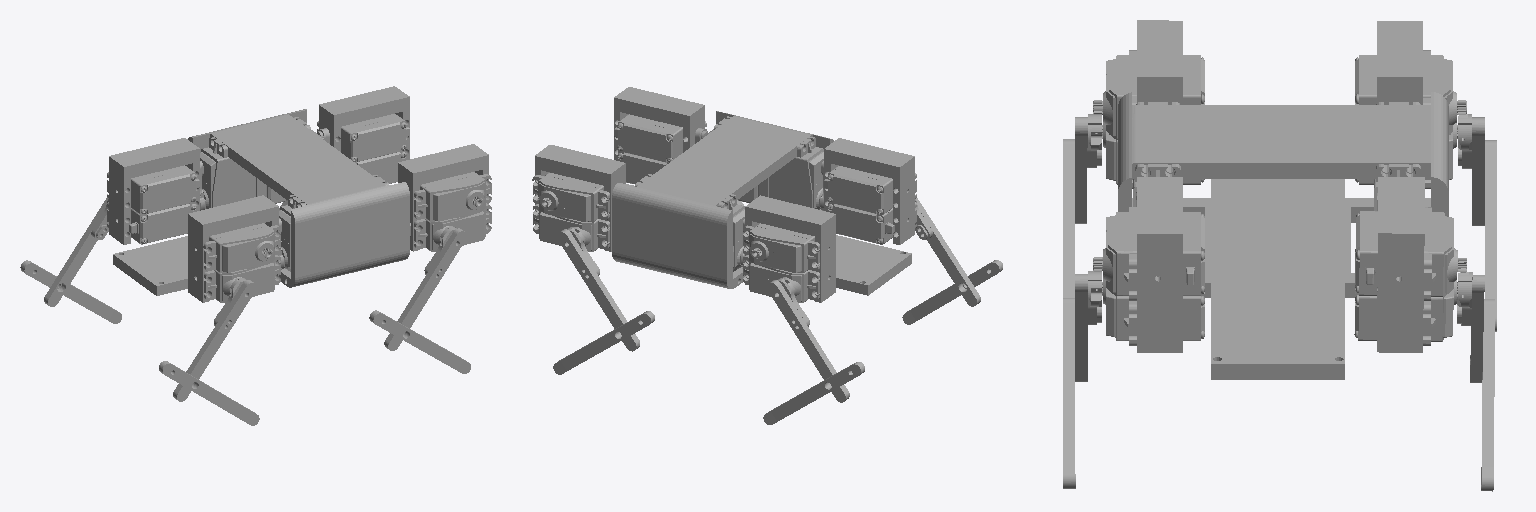
--- Facts derived from the render (not from the file) ---
The picture shows the robot from 3 angles, left to right: view 1: azimuth 30°, elevation 25°; view 2: azimuth 150°, elevation 25°; view 3: azimuth 270°, elevation 25°; orthographic projection.
Robot: robot_sim — 17 links, 16 joints (12 revolute, 4 fixed); root link base_link; default pose: all joints at 0.
Links seen in each view (by area): view 1: base_link, lh_hipp_1, rh_hipp_1, rf_hipp_1, lf_hipp_1, rf_up_1, rh_up_1, lh_up_1, rf_low_1, rh_low_1, lh_low_1; view 2: base_link, rh_hipp_1, lh_hipp_1, lf_hipp_1, rf_hipp_1, lh_up_1, lf_up_1, rh_up_1, lf_low_1, lh_low_1, rh_low_1; view 3: base_link, lf_hipp_1, rf_hipp_1, rh_hipp_1, lh_hipp_1, lh_up_1, rf_up_1, lf_up_1, rh_up_1, lf_low_1, rf_low_1, lh_low_1 (+1 smaller).
Boxes of the visible links, x1,y1,x2,y2 form: base_link: [113, 109, 409, 295]; lh_hipp_1: [107, 138, 205, 244]; rh_hipp_1: [188, 195, 284, 302]; rf_hipp_1: [398, 144, 491, 251]; lf_hipp_1: [317, 86, 409, 183]; rf_up_1: [384, 226, 466, 350]; rh_up_1: [173, 277, 256, 401]; lh_up_1: [44, 198, 108, 306]; rf_low_1: [369, 310, 463, 370]; rh_low_1: [159, 361, 251, 421]; lh_low_1: [20, 260, 114, 320]; base_link: [612, 111, 911, 295]; rh_hipp_1: [819, 138, 916, 244]; lh_hipp_1: [740, 195, 835, 302]; lf_hipp_1: [532, 145, 625, 251]; rf_hipp_1: [614, 87, 707, 184]; lh_up_1: [767, 278, 849, 402]; lf_up_1: [557, 227, 639, 351]; rh_up_1: [915, 198, 980, 306]; lf_low_1: [561, 311, 654, 370]; lh_low_1: [771, 362, 864, 421]; rh_low_1: [910, 260, 1002, 320]; base_link: [1118, 92, 1448, 379]; lf_hipp_1: [1354, 177, 1466, 352]; rf_hipp_1: [1093, 177, 1204, 352]; rh_hipp_1: [1093, 20, 1204, 188]; lh_hipp_1: [1355, 21, 1466, 188]; lh_up_1: [1458, 114, 1484, 225]; rf_up_1: [1075, 271, 1101, 381]; lf_up_1: [1457, 272, 1484, 382]; rh_up_1: [1075, 114, 1101, 223]; lf_low_1: [1481, 299, 1494, 471]; rf_low_1: [1063, 298, 1074, 463]; lh_low_1: [1485, 140, 1496, 306].
Size in the robot's own frame: 0.271 by 0.1782 by 0.1324 metres.
17 mesh visuals loaded from 17 distinct referenced files (17 binary STL).

URDF robot description (robot_sim):
<?xml version="1.0" ?>
<!-- =================================================================================== -->
<!-- |    This document was autogenerated by xacro from src/robot_sim_description/urdf/robot_sim.xacro | -->
<!-- |    EDITING THIS FILE BY HAND IS NOT RECOMMENDED                                 | -->
<!-- =================================================================================== -->
<robot name="robot_sim">
  <material name="silver">
    <color rgba="0.700 0.700 0.700 1.000"/>
  </material>
  <transmission name="lf_hip_joint_tran">
    <type>transmission_interface/SimpleTransmission</type>
    <joint name="lf_hip_joint">
      <hardwareInterface>hardware_interface/EffortJointInterface</hardwareInterface>
    </joint>
    <actuator name="lf_hip_joint_actr">
      <hardwareInterface>hardware_interface/EffortJointInterface</hardwareInterface>
      <mechanicalReduction>1</mechanicalReduction>
    </actuator>
  </transmission>
  <transmission name="rf_hip_joint_tran">
    <type>transmission_interface/SimpleTransmission</type>
    <joint name="rf_hip_joint">
      <hardwareInterface>hardware_interface/EffortJointInterface</hardwareInterface>
    </joint>
    <actuator name="rf_hip_joint_actr">
      <hardwareInterface>hardware_interface/EffortJointInterface</hardwareInterface>
      <mechanicalReduction>1</mechanicalReduction>
    </actuator>
  </transmission>
  <transmission name="lh_hip_joint_tran">
    <type>transmission_interface/SimpleTransmission</type>
    <joint name="lh_hip_joint">
      <hardwareInterface>hardware_interface/EffortJointInterface</hardwareInterface>
    </joint>
    <actuator name="lh_hip_joint_actr">
      <hardwareInterface>hardware_interface/EffortJointInterface</hardwareInterface>
      <mechanicalReduction>1</mechanicalReduction>
    </actuator>
  </transmission>
  <transmission name="rh_hip_joint_tran">
    <type>transmission_interface/SimpleTransmission</type>
    <joint name="rh_hip_joint">
      <hardwareInterface>hardware_interface/EffortJointInterface</hardwareInterface>
    </joint>
    <actuator name="rh_hip_joint_actr">
      <hardwareInterface>hardware_interface/EffortJointInterface</hardwareInterface>
      <mechanicalReduction>1</mechanicalReduction>
    </actuator>
  </transmission>
  <transmission name="lf_upper_leg_joint_tran">
    <type>transmission_interface/SimpleTransmission</type>
    <joint name="lf_upper_leg_joint">
      <hardwareInterface>hardware_interface/EffortJointInterface</hardwareInterface>
    </joint>
    <actuator name="lf_upper_leg_joint_actr">
      <hardwareInterface>hardware_interface/EffortJointInterface</hardwareInterface>
      <mechanicalReduction>1</mechanicalReduction>
    </actuator>
  </transmission>
  <transmission name="rf_upper_leg_joint_tran">
    <type>transmission_interface/SimpleTransmission</type>
    <joint name="rf_upper_leg_joint">
      <hardwareInterface>hardware_interface/EffortJointInterface</hardwareInterface>
    </joint>
    <actuator name="rf_upper_leg_joint_actr">
      <hardwareInterface>hardware_interface/EffortJointInterface</hardwareInterface>
      <mechanicalReduction>1</mechanicalReduction>
    </actuator>
  </transmission>
  <transmission name="lh_upper_leg_joint_tran">
    <type>transmission_interface/SimpleTransmission</type>
    <joint name="lh_upper_leg_joint">
      <hardwareInterface>hardware_interface/EffortJointInterface</hardwareInterface>
    </joint>
    <actuator name="lh_upper_leg_joint_actr">
      <hardwareInterface>hardware_interface/EffortJointInterface</hardwareInterface>
      <mechanicalReduction>1</mechanicalReduction>
    </actuator>
  </transmission>
  <transmission name="rh_upper_leg_joint_tran">
    <type>transmission_interface/SimpleTransmission</type>
    <joint name="rh_upper_leg_joint">
      <hardwareInterface>hardware_interface/EffortJointInterface</hardwareInterface>
    </joint>
    <actuator name="rh_upper_leg_joint_actr">
      <hardwareInterface>hardware_interface/EffortJointInterface</hardwareInterface>
      <mechanicalReduction>1</mechanicalReduction>
    </actuator>
  </transmission>
  <transmission name="lf_lower_leg_joint_tran">
    <type>transmission_interface/SimpleTransmission</type>
    <joint name="lf_lower_leg_joint">
      <hardwareInterface>hardware_interface/EffortJointInterface</hardwareInterface>
    </joint>
    <actuator name="lf_lower_leg_joint_actr">
      <hardwareInterface>hardware_interface/EffortJointInterface</hardwareInterface>
      <mechanicalReduction>1</mechanicalReduction>
    </actuator>
  </transmission>
  <transmission name="rf_lower_leg_joint_tran">
    <type>transmission_interface/SimpleTransmission</type>
    <joint name="rf_lower_leg_joint">
      <hardwareInterface>hardware_interface/EffortJointInterface</hardwareInterface>
    </joint>
    <actuator name="rf_lower_leg_joint_actr">
      <hardwareInterface>hardware_interface/EffortJointInterface</hardwareInterface>
      <mechanicalReduction>1</mechanicalReduction>
    </actuator>
  </transmission>
  <transmission name="lh_lower_leg_joint_tran">
    <type>transmission_interface/SimpleTransmission</type>
    <joint name="lh_lower_leg_joint">
      <hardwareInterface>hardware_interface/EffortJointInterface</hardwareInterface>
    </joint>
    <actuator name="lh_lower_leg_joint_actr">
      <hardwareInterface>hardware_interface/EffortJointInterface</hardwareInterface>
      <mechanicalReduction>1</mechanicalReduction>
    </actuator>
  </transmission>
  <transmission name="rh_lower_leg_joint_tran">
    <type>transmission_interface/SimpleTransmission</type>
    <joint name="rh_lower_leg_joint">
      <hardwareInterface>hardware_interface/EffortJointInterface</hardwareInterface>
    </joint>
    <actuator name="rh_lower_leg_joint_actr">
      <hardwareInterface>hardware_interface/EffortJointInterface</hardwareInterface>
      <mechanicalReduction>1</mechanicalReduction>
    </actuator>
  </transmission>
  <gazebo>
    <plugin filename="libgazebo_ros_control.so" name="control"/>
  </gazebo>
  <gazebo reference="base_link">
    <material>Gazebo/Silver</material>
    <mu1>0.2</mu1>
    <mu2>0.2</mu2>
    <selfCollide>false</selfCollide>
    <gravity>true</gravity>
  </gazebo>
  <gazebo reference="lf_hipp_1">
    <material>Gazebo/Silver</material>
    <mu1>0.2</mu1>
    <mu2>0.2</mu2>
    <selfCollide>false</selfCollide>
  </gazebo>
  <gazebo reference="rf_hipp_1">
    <material>Gazebo/Silver</material>
    <mu1>0.2</mu1>
    <mu2>0.2</mu2>
    <selfCollide>false</selfCollide>
  </gazebo>
  <gazebo reference="lh_hipp_1">
    <material>Gazebo/Silver</material>
    <mu1>0.2</mu1>
    <mu2>0.2</mu2>
    <selfCollide>false</selfCollide>
  </gazebo>
  <gazebo reference="rh_hipp_1">
    <material>Gazebo/Silver</material>
    <mu1>0.2</mu1>
    <mu2>0.2</mu2>
    <selfCollide>false</selfCollide>
  </gazebo>
  <gazebo reference="lf_up_1">
    <material>Gazebo/Silver</material>
    <mu1>0.2</mu1>
    <mu2>0.2</mu2>
    <selfCollide>false</selfCollide>
  </gazebo>
  <gazebo reference="rf_up_1">
    <material>Gazebo/Silver</material>
    <mu1>0.2</mu1>
    <mu2>0.2</mu2>
    <selfCollide>false</selfCollide>
  </gazebo>
  <gazebo reference="lh_up_1">
    <material>Gazebo/Silver</material>
    <mu1>0.2</mu1>
    <mu2>0.2</mu2>
    <selfCollide>false</selfCollide>
  </gazebo>
  <gazebo reference="rh_up_1">
    <material>Gazebo/Silver</material>
    <mu1>0.2</mu1>
    <mu2>0.2</mu2>
    <selfCollide>false</selfCollide>
  </gazebo>
  <gazebo reference="lf_foot_1">
    <material>Gazebo/Silver</material>
    <mu1>1.5</mu1>
    <mu2>1.5</mu2>
    <selfCollide>false</selfCollide>
    <kp>1000000.0</kp>
    <kd>1.0</kd>
    <minDepth>0.001</minDepth>
    <maxVel>0.1</maxVel>
  </gazebo>
  <gazebo reference="rf_foot_1">
    <material>Gazebo/Silver</material>
    <mu1>1.5</mu1>
    <mu2>1.5</mu2>
    <selfCollide>false</selfCollide>
    <kp>1000000.0</kp>
    <kd>1.0</kd>
    <minDepth>0.001</minDepth>
    <maxVel>0.1</maxVel>
  </gazebo>
  <gazebo reference="lh_foot_1">
    <material>Gazebo/Silver</material>
    <mu1>1.5</mu1>
    <mu2>1.5</mu2>
    <selfCollide>false</selfCollide>
    <kp>1000000.0</kp>
    <kd>1.0</kd>
    <minDepth>0.001</minDepth>
    <maxVel>0.1</maxVel>
  </gazebo>
  <gazebo reference="rh_foot_1">
    <material>Gazebo/Silver</material>
    <mu1>1.5</mu1>
    <mu2>1.5</mu2>
    <selfCollide>false</selfCollide>
    <kp>1000000.0</kp>
    <kd>1.0</kd>
    <minDepth>0.001</minDepth>
    <maxVel>0.1</maxVel>
  </gazebo>
  <gazebo reference="lf_low_1">
    <material>Gazebo/Silver</material>
    <mu1>0.2</mu1>
    <mu2>0.2</mu2>
    <selfCollide>false</selfCollide>
  </gazebo>
  <gazebo reference="rf_low_1">
    <material>Gazebo/Silver</material>
    <mu1>0.2</mu1>
    <mu2>0.2</mu2>
    <selfCollide>false</selfCollide>
  </gazebo>
  <gazebo reference="lh_low_1">
    <material>Gazebo/Silver</material>
    <mu1>0.2</mu1>
    <mu2>0.2</mu2>
    <selfCollide>false</selfCollide>
  </gazebo>
  <gazebo reference="rh_low_1">
    <material>Gazebo/Silver</material>
    <mu1>0.2</mu1>
    <mu2>0.2</mu2>
    <selfCollide>false</selfCollide>
  </gazebo>
  <gazebo reference="base_link">
    <gravity>true</gravity>
    <sensor name="imu_sensor" type="imu">
      <always_on>true</always_on>
      <update_rate>100</update_rate>
      <visualize>true</visualize>
      <topic>__default_topic__</topic>
      <plugin filename="libgazebo_ros_imu_sensor.so" name="imu_plugin">
        <topicName>imu/data</topicName>
        <bodyName>base_link</bodyName>
        <updateRateHZ>100.0</updateRateHZ>
        <gaussianNoise>0.0</gaussianNoise>
        <xyzOffset>0 0 0</xyzOffset>
        <rpyOffset>0 0 0</rpyOffset>
        <frameName>base_link</frameName>
        <initialOrientationAsReference>false</initialOrientationAsReference>
      </plugin>
      <pose>0 0 0 0 0 0</pose>
    </sensor>
  </gazebo>
  <link name="base_link">
    <inertial>
      <origin rpy="0 0 0" xyz="-0.0005252204596031618 -0.00019184175566821615 0.02372203813710473"/>
      <mass value="1.0"/>
      <inertia ixx="0.006081" ixy="1e-06" ixz="1.4e-05" iyy="0.005366" iyz="-2.7e-05" izz="0.00968"/>
    </inertial>
    <visual>
      <origin rpy="0 0 0" xyz="0 0 0"/>
      <geometry>
        <mesh filename="package://robot_sim_description/meshes/base_link.stl" scale="0.001 0.001 0.001"/>
      </geometry>
      <material name="silver"/>
    </visual>
    <collision>
      <origin rpy="0 0 0" xyz="0 0 0"/>
      <geometry>
        <mesh filename="package://robot_sim_description/meshes/base_link.stl" scale="0.001 0.001 0.001"/>
      </geometry>
    </collision>
  </link>
  <link name="lf_hipp_1">
    <inertial>
      <origin rpy="0 0 0" xyz="0.03015331538259277 0.002186531069731129 0.011451897963831191"/>
      <mass value="0.25"/>
      <inertia ixx="0.000207" ixy="-1e-06" ixz="-1e-06" iyy="0.000267" iyz="2e-06" izz="0.000208"/>
    </inertial>
    <visual>
      <origin rpy="0 0 0" xyz="-0.044687 -0.047373 -0.017674"/>
      <geometry>
        <mesh filename="package://robot_sim_description/meshes/lf_hipp_1.stl" scale="0.001 0.001 0.001"/>
      </geometry>
      <material name="silver"/>
    </visual>
    <collision>
      <origin rpy="0 0 0" xyz="-0.044687 -0.047373 -0.017674"/>
      <geometry>
        <mesh filename="package://robot_sim_description/meshes/lf_hipp_1.stl" scale="0.001 0.001 0.001"/>
      </geometry>
    </collision>
  </link>
  <link name="rf_hipp_1">
    <inertial>
      <origin rpy="0 0 0" xyz="0.03015037337157648 -0.0007413119719827249 0.011482275702380054"/>
      <mass value="0.25"/>
      <inertia ixx="0.000207" ixy="0.0" ixz="-1e-06" iyy="0.000267" iyz="-3e-06" izz="0.000208"/>
    </inertial>
    <visual>
      <origin rpy="0 0 0" xyz="-0.044687 0.051374 -0.017678"/>
      <geometry>
        <mesh filename="package://robot_sim_description/meshes/rf_hipp_1.stl" scale="0.001 0.001 0.001"/>
      </geometry>
      <material name="silver"/>
    </visual>
    <collision>
      <origin rpy="0 0 0" xyz="-0.044687 0.051374 -0.017678"/>
      <geometry>
        <mesh filename="package://robot_sim_description/meshes/rf_hipp_1.stl" scale="0.001 0.001 0.001"/>
      </geometry>
    </collision>
  </link>
  <link name="lh_hipp_1">
    <inertial>
      <origin rpy="0 0 0" xyz="-0.029856922704473474 0.0020206181030268666 0.011482293331725565"/>
      <mass value="0.25"/>
      <inertia ixx="0.000207" ixy="1e-06" ixz="0.0" iyy="0.000267" iyz="3e-06" izz="0.000208"/>
    </inertial>
    <visual>
      <origin rpy="0 0 0" xyz="0.046404 -0.047373 -0.017674"/>
      <geometry>
        <mesh filename="package://robot_sim_description/meshes/lh_hipp_1.stl" scale="0.001 0.001 0.001"/>
      </geometry>
      <material name="silver"/>
    </visual>
    <collision>
      <origin rpy="0 0 0" xyz="0.046404 -0.047373 -0.017674"/>
      <geometry>
        <mesh filename="package://robot_sim_description/meshes/lh_hipp_1.stl" scale="0.001 0.001 0.001"/>
      </geometry>
    </collision>
  </link>
  <link name="rh_hipp_1">
    <inertial>
      <origin rpy="0 0 0" xyz="-0.02985701671843094 -0.0007331831610426498 0.011482821283024747"/>
      <mass value="0.25"/>
      <inertia ixx="0.000207" ixy="-0.0" ixz="0.0" iyy="0.000267" iyz="-3e-06" izz="0.000208"/>
    </inertial>
    <visual>
      <origin rpy="0 0 0" xyz="0.046404 0.051374 -0.017678"/>
      <geometry>
        <mesh filename="package://robot_sim_description/meshes/rh_hipp_1.stl" scale="0.001 0.001 0.001"/>
      </geometry>
      <material name="silver"/>
    </visual>
    <collision>
      <origin rpy="0 0 0" xyz="0.046404 0.051374 -0.017678"/>
      <geometry>
        <mesh filename="package://robot_sim_description/meshes/rh_hipp_1.stl" scale="0.001 0.001 0.001"/>
      </geometry>
    </collision>
  </link>
  <link name="lf_up_1">
    <inertial>
      <origin rpy="0 0 0" xyz="-0.016419062921313177 0.003637269753796246 -0.02678707336544945"/>
      <mass value="0.0625"/>
      <inertia ixx="0.001" ixy="0.0" ixz="0.0" iyy="0.001" iyz="0.0" izz="0.001"/>
    </inertial>
    <visual>
      <origin rpy="0 0 0" xyz="-0.065361 -0.074642 -0.01539"/>
      <geometry>
        <mesh filename="package://robot_sim_description/meshes/lf_up_1.stl" scale="0.001 0.001 0.001"/>
      </geometry>
      <material name="silver"/>
    </visual>
    <collision>
      <origin rpy="0 0 0" xyz="-0.065361 -0.074642 -0.01539"/>
      <geometry>
        <mesh filename="package://robot_sim_description/meshes/lf_up_1.stl" scale="0.001 0.001 0.001"/>
      </geometry>
    </collision>
  </link>
  <link name="rf_up_1">
    <inertial>
      <origin rpy="0 0 0" xyz="-0.0164200310998035 -0.003944072054624034 -0.026733120225738486"/>
      <mass value="0.0625"/>
      <inertia ixx="0.001" ixy="0.0" ixz="0.0" iyy="0.001" iyz="0.0" izz="0.001"/>
    </inertial>
    <visual>
      <origin rpy="0 0 0" xyz="-0.065361 0.077374 -0.01579"/>
      <geometry>
        <mesh filename="package://robot_sim_description/meshes/rf_up_1.stl" scale="0.001 0.001 0.001"/>
      </geometry>
      <material name="silver"/>
    </visual>
    <collision>
      <origin rpy="0 0 0" xyz="-0.065361 0.077374 -0.01579"/>
      <geometry>
        <mesh filename="package://robot_sim_description/meshes/rf_up_1.stl" scale="0.001 0.001 0.001"/>
      </geometry>
    </collision>
  </link>
  <link name="lh_up_1">
    <inertial>
      <origin rpy="0 0 0" xyz="-0.016340315083238258 0.003944463350645688 -0.026737906931428364"/>
      <mass value="0.0625"/>
      <inertia ixx="0.001" ixy="0.0" ixz="0.0" iyy="0.001" iyz="0.0" izz="0.001"/>
    </inertial>
    <visual>
      <origin rpy="0 0 0" xyz="0.08673 -0.074672 -0.015786"/>
      <geometry>
        <mesh filename="package://robot_sim_description/meshes/lh_up_1.stl" scale="0.001 0.001 0.001"/>
      </geometry>
      <material name="silver"/>
    </visual>
    <collision>
      <origin rpy="0 0 0" xyz="0.08673 -0.074672 -0.015786"/>
      <geometry>
        <mesh filename="package://robot_sim_description/meshes/lh_up_1.stl" scale="0.001 0.001 0.001"/>
      </geometry>
    </collision>
  </link>
  <link name="rh_up_1">
    <inertial>
      <origin rpy="0 0 0" xyz="-0.016686433486496274 -0.003958453231412792 -0.026710968347183412"/>
      <mass value="0.0625"/>
      <inertia ixx="0.001" ixy="0.0" ixz="0.0" iyy="0.001" iyz="0.0" izz="0.001"/>
    </inertial>
    <visual>
      <origin rpy="0 0 0" xyz="0.08673 0.077375 -0.015807"/>
      <geometry>
        <mesh filename="package://robot_sim_description/meshes/rh_up_1.stl" scale="0.001 0.001 0.001"/>
      </geometry>
      <material name="silver"/>
    </visual>
    <collision>
      <origin rpy="0 0 0" xyz="0.08673 0.077375 -0.015807"/>
      <geometry>
        <mesh filename="package://robot_sim_description/meshes/rh_up_1.stl" scale="0.001 0.001 0.001"/>
      </geometry>
    </collision>
  </link>
  <link name="lf_foot_1">
    <inertial>
      <origin rpy="0 0 0" xyz="0.003146149042842633 -4.0777872519534575e-05 -0.0023908828751956906"/>
      <mass value="0.0625"/>
      <inertia ixx="0.0001" ixy="-0.0" ixz="0.0" iyy="0.0001" iyz="-0.0" izz="0.0001"/>
    </inertial>
    <visual>
      <origin rpy="0 0 0" xyz="-0.065198 -0.083946 0.067164"/>
      <geometry>
        <mesh filename="package://robot_sim_description/meshes/lf_foot_1.stl" scale="0.001 0.001 0.001"/>
      </geometry>
      <material name="silver"/>
    </visual>
    <collision>
      <origin rpy="0 0 0" xyz="-0.065198 -0.083946 0.067164"/>
      <geometry>
        <mesh filename="package://robot_sim_description/meshes/lf_foot_1.stl" scale="0.001 0.001 0.001"/>
      </geometry>
    </collision>
  </link>
  <link name="rf_foot_1">
    <inertial>
      <origin rpy="0 0 0" xyz="0.003146563459573884 5.3378327768291434e-05 -0.0023910133980219184"/>
      <mass value="0.0625"/>
      <inertia ixx="0.0001" ixy="-0.0" ixz="0.0" iyy="0.0001" iyz="0.0" izz="0.0001"/>
    </inertial>
    <visual>
      <origin rpy="0 0 0" xyz="-0.064738 0.087874 0.066283"/>
      <geometry>
        <mesh filename="package://robot_sim_description/meshes/rf_foot_1.stl" scale="0.001 0.001 0.001"/>
      </geometry>
      <material name="silver"/>
    </visual>
    <collision>
      <origin rpy="0 0 0" xyz="-0.064738 0.087874 0.066283"/>
      <geometry>
        <mesh filename="package://robot_sim_description/meshes/rf_foot_1.stl" scale="0.001 0.001 0.001"/>
      </geometry>
    </collision>
  </link>
  <link name="lh_foot_1">
    <inertial>
      <origin rpy="0 0 0" xyz="0.0031466132562136817 5.379185311012169e-05 -0.002390894290727974"/>
      <mass value="0.0625"/>
      <inertia ixx="0.0001" ixy="-0.0" ixz="0.0" iyy="0.0001" iyz="0.0" izz="0.0001"/>
    </inertial>
    <visual>
      <origin rpy="0 0 0" xyz="0.08771 -0.085172 0.066059"/>
      <geometry>
        <mesh filename="package://robot_sim_description/meshes/lh_foot_1.stl" scale="0.001 0.001 0.001"/>
      </geometry>
      <material name="silver"/>
    </visual>
    <collision>
      <origin rpy="0 0 0" xyz="0.08771 -0.085172 0.066059"/>
      <geometry>
        <mesh filename="package://robot_sim_description/meshes/lh_foot_1.stl" scale="0.001 0.001 0.001"/>
      </geometry>
    </collision>
  </link>
  <link name="rh_foot_1">
    <inertial>
      <origin rpy="0 0 0" xyz="0.0031468710440486353 4.940379671491968e-05 -0.0023912075919742537"/>
      <mass value="0.0625"/>
      <inertia ixx="0.0001" ixy="-0.0" ixz="0.0" iyy="0.0001" iyz="0.0" izz="0.0001"/>
    </inertial>
    <visual>
      <origin rpy="0 0 0" xyz="0.088419 0.087931 0.066223"/>
      <geometry>
        <mesh filename="package://robot_sim_description/meshes/rh_foot_1.stl" scale="0.001 0.001 0.001"/>
      </geometry>
      <material name="silver"/>
    </visual>
    <collision>
      <origin rpy="0 0 0" xyz="0.088419 0.087931 0.066223"/>
      <geometry>
        <mesh filename="package://robot_sim_description/meshes/rh_foot_1.stl" scale="0.001 0.001 0.001"/>
      </geometry>
    </collision>
  </link>
  <link name="lf_low_1">
    <inertial>
      <origin rpy="0 0 0" xyz="0.009183069925470574 0.0023976567053376058 -0.007108956563643944"/>
      <mass value="0.125"/>
      <inertia ixx="0.001" ixy="0.0" ixz="0.0" iyy="0.001" iyz="0.0" izz="0.001"/>
    </inertial>
    <visual>
      <origin rpy="0 0 0" xyz="-0.025556 -0.08189 0.036525"/>
      <geometry>
        <mesh filename="package://robot_sim_description/meshes/lf_low_1.stl" scale="0.001 0.001 0.001"/>
      </geometry>
      <material name="silver"/>
    </visual>
    <collision>
      <origin rpy="0 0 0" xyz="-0.025556 -0.08189 0.036525"/>
      <geometry>
        <mesh filename="package://robot_sim_description/meshes/lf_low_1.stl" scale="0.001 0.001 0.001"/>
      </geometry>
    </collision>
  </link>
  <link name="rf_low_1">
    <inertial>
      <origin rpy="0 0 0" xyz="0.008957472165061098 -0.0025000107553799916 -0.006903547188052195"/>
      <mass value="0.125"/>
      <inertia ixx="0.001" ixy="0.0" ixz="0.0" iyy="0.001" iyz="0.0" izz="0.001"/>
    </inertial>
    <visual>
      <origin rpy="0 0 0" xyz="-0.025541 0.085374 0.036003"/>
      <geometry>
        <mesh filename="package://robot_sim_description/meshes/rf_low_1.stl" scale="0.001 0.001 0.001"/>
      </geometry>
      <material name="silver"/>
    </visual>
    <collision>
      <origin rpy="0 0 0" xyz="-0.025541 0.085374 0.036003"/>
      <geometry>
        <mesh filename="package://robot_sim_description/meshes/rf_low_1.stl" scale="0.001 0.001 0.001"/>
      </geometry>
    </collision>
  </link>
  <link name="lh_low_1">
    <inertial>
      <origin rpy="0 0 0" xyz="0.008946743217155245 0.0025004027699619402 -0.0069063248962129495"/>
      <mass value="0.125"/>
      <inertia ixx="0.001" ixy="0.0" ixz="0.0" iyy="0.001" iyz="0.0" izz="0.001"/>
    </inertial>
    <visual>
      <origin rpy="0 0 0" xyz="0.126873 -0.082672 0.035757"/>
      <geometry>
        <mesh filename="package://robot_sim_description/meshes/lh_low_1.stl" scale="0.001 0.001 0.001"/>
      </geometry>
      <material name="silver"/>
    </visual>
    <collision>
      <origin rpy="0 0 0" xyz="0.126873 -0.082672 0.035757"/>
      <geometry>
        <mesh filename="package://robot_sim_description/meshes/lh_low_1.stl" scale="0.001 0.001 0.001"/>
      </geometry>
    </collision>
  </link>
  <link name="rh_low_1">
    <inertial>
      <origin rpy="0 0 0" xyz="0.008855525446896786 -0.0025045709939809507 -0.0070043673693002545"/>
      <mass value="0.125"/>
      <inertia ixx="0.001" ixy="0.0" ixz="0.0" iyy="0.001" iyz="0.0" izz="0.001"/>
    </inertial>
    <visual>
      <origin rpy="0 0 0" xyz="0.127203 0.08541 0.035472"/>
      <geometry>
        <mesh filename="package://robot_sim_description/meshes/rh_low_1.stl" scale="0.001 0.001 0.001"/>
      </geometry>
      <material name="silver"/>
    </visual>
    <collision>
      <origin rpy="0 0 0" xyz="0.127203 0.08541 0.035472"/>
      <geometry>
        <mesh filename="package://robot_sim_description/meshes/rh_low_1.stl" scale="0.001 0.001 0.001"/>
      </geometry>
    </collision>
  </link>
  <joint name="lf_hip_joint" type="revolute">
    <origin rpy="0 0 0" xyz="0.044687 0.047373 0.017674"/>
    <parent link="base_link"/>
    <child link="lf_hipp_1"/>
    <axis xyz="1.0 0.0 0.0"/>
    <limit effort="100" lower="-0.57" upper="0.57" velocity="100"/>
  </joint>
  <joint name="rf_hip_joint" type="revolute">
    <origin rpy="0 0 0" xyz="0.044687 -0.051374 0.017678"/>
    <parent link="base_link"/>
    <child link="rf_hipp_1"/>
    <axis xyz="1.0 0.0 0.0"/>
    <limit effort="100" lower="-0.57" upper="0.57" velocity="100"/>
  </joint>
  <joint name="lh_hip_joint" type="revolute">
    <origin rpy="0 0 0" xyz="-0.046404 0.047373 0.017674"/>
    <parent link="base_link"/>
    <child link="lh_hipp_1"/>
    <axis xyz="1.0 0.0 0.0"/>
    <limit effort="100" lower="-0.57" upper="0.57" velocity="100"/>
  </joint>
  <joint name="rh_hip_joint" type="revolute">
    <origin rpy="0 0 0" xyz="-0.046404 -0.051374 0.017678"/>
    <parent link="base_link"/>
    <child link="rh_hipp_1"/>
    <axis xyz="1.0 0.0 0.0"/>
    <limit effort="100" lower="-0.57" upper="0.57" velocity="100"/>
  </joint>
  <joint name="lf_upper_leg_joint" type="revolute">
    <origin rpy="0 0 0" xyz="0.020674 0.027269 -0.002284"/>
    <parent link="lf_hipp_1"/>
    <child link="lf_up_1"/>
    <axis xyz="0.0 1.0 0.0"/>
    <limit effort="100" lower="-0.62" upper="0.62" velocity="100"/>
  </joint>
  <joint name="rf_upper_leg_joint" type="revolute">
    <origin rpy="0 0 0" xyz="0.020674 -0.026 -0.001888"/>
    <parent link="rf_hipp_1"/>
    <child link="rf_up_1"/>
    <axis xyz="0.0 1.0 0.0"/>
    <limit effort="100" lower="-0.62" upper="0.62" velocity="100"/>
  </joint>
  <joint name="lh_upper_leg_joint" type="revolute">
    <origin rpy="0 0 0" xyz="-0.040326 0.027299 -0.001888"/>
    <parent link="lh_hipp_1"/>
    <child link="lh_up_1"/>
    <axis xyz="0.0 1.0 0.0"/>
    <limit effort="100" lower="-0.62" upper="0.62" velocity="100"/>
  </joint>
  <joint name="rh_upper_leg_joint" type="revolute">
    <origin rpy="0 0 0" xyz="-0.040326 -0.026001 -0.001871"/>
    <parent link="rh_hipp_1"/>
    <child link="rh_up_1"/>
    <axis xyz="0.0 1.0 0.0"/>
    <limit effort="100" lower="-0.62" upper="0.62" velocity="100"/>
  </joint>
  <joint name="rig_lf" type="fixed">
    <origin rpy="0 0 0" xyz="0.039642 0.002056 -0.030639"/>
    <parent link="lf_low_1"/>
    <child link="lf_foot_1"/>
  </joint>
  <joint name="rig_rf" type="fixed">
    <origin rpy="0 0 0" xyz="0.039197 -0.0025 -0.03028"/>
    <parent link="rf_low_1"/>
    <child link="rf_foot_1"/>
  </joint>
  <joint name="rig_lh" type="fixed">
    <origin rpy="0 0 0" xyz="0.039163 0.0025 -0.030302"/>
    <parent link="lh_low_1"/>
    <child link="lh_foot_1"/>
  </joint>
  <joint name="rig_rh" type="fixed">
    <origin rpy="0 0 0" xyz="0.038784 -0.002521 -0.030751"/>
    <parent link="rh_low_1"/>
    <child link="rh_foot_1"/>
  </joint>
  <joint name="lf_lower_leg_joint" type="revolute">
    <origin rpy="0 0 0" xyz="-0.039805 0.007248 -0.051915"/>
    <parent link="lf_up_1"/>
    <child link="lf_low_1"/>
    <axis xyz="0.0 -1.0 0.0"/>
    <limit effort="100" lower="-0.610865" upper="0.610865" velocity="100"/>
  </joint>
  <joint name="rf_lower_leg_joint" type="revolute">
    <origin rpy="0 0 0" xyz="-0.03982 -0.008 -0.051793"/>
    <parent link="rf_up_1"/>
    <child link="rf_low_1"/>
    <axis xyz="0.0 1.0 0.0"/>
    <limit effort="100" lower="-0.610865" upper="0.610865" velocity="100"/>
  </joint>
  <joint name="lh_lower_leg_joint" type="revolute">
    <origin rpy="0 0 0" xyz="-0.040143 0.008 -0.051543"/>
    <parent link="lh_up_1"/>
    <child link="lh_low_1"/>
    <axis xyz="0.0 -1.0 0.0"/>
    <limit effort="100" lower="-0.610865" upper="0.610865" velocity="100"/>
  </joint>
  <joint name="rh_lower_leg_joint" type="revolute">
    <origin rpy="0 0 0" xyz="-0.040473 -0.008035 -0.051279"/>
    <parent link="rh_up_1"/>
    <child link="rh_low_1"/>
    <axis xyz="0.0 1.0 0.0"/>
    <limit effort="100" lower="-0.610865" upper="0.610865" velocity="100"/>
  </joint>
</robot>
